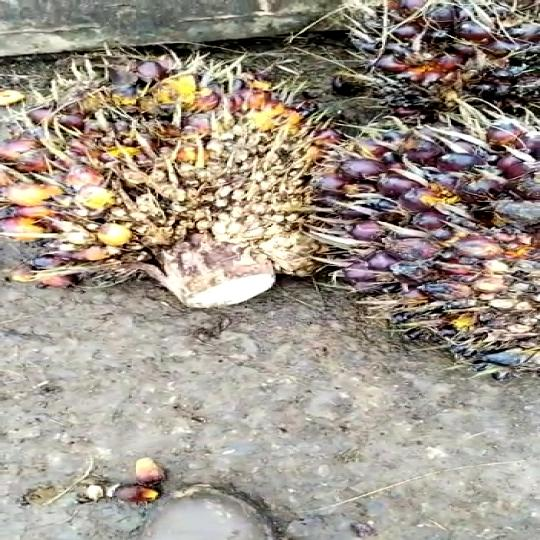masak: (0, 51, 386, 321), (304, 101, 540, 387), (292, 0, 540, 107)
